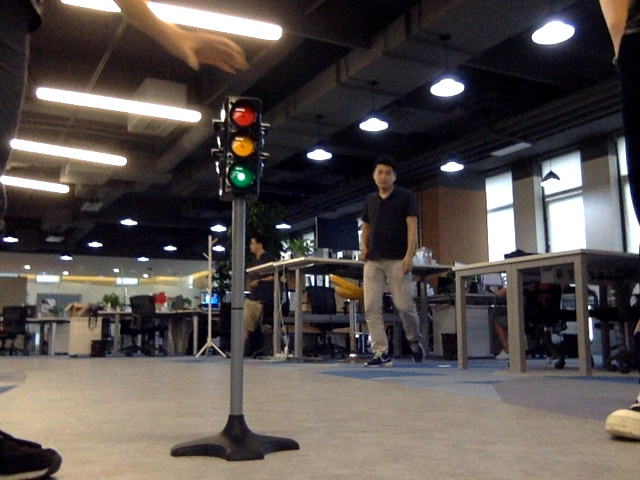green: (228, 103, 254, 189)
